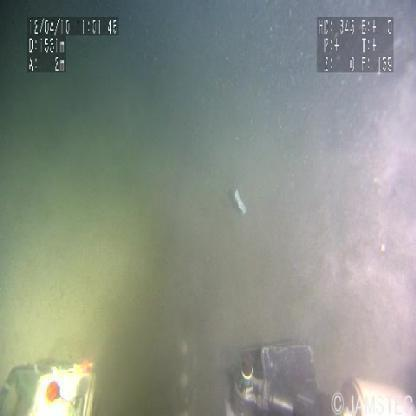Rác: (231, 188, 247, 219)
